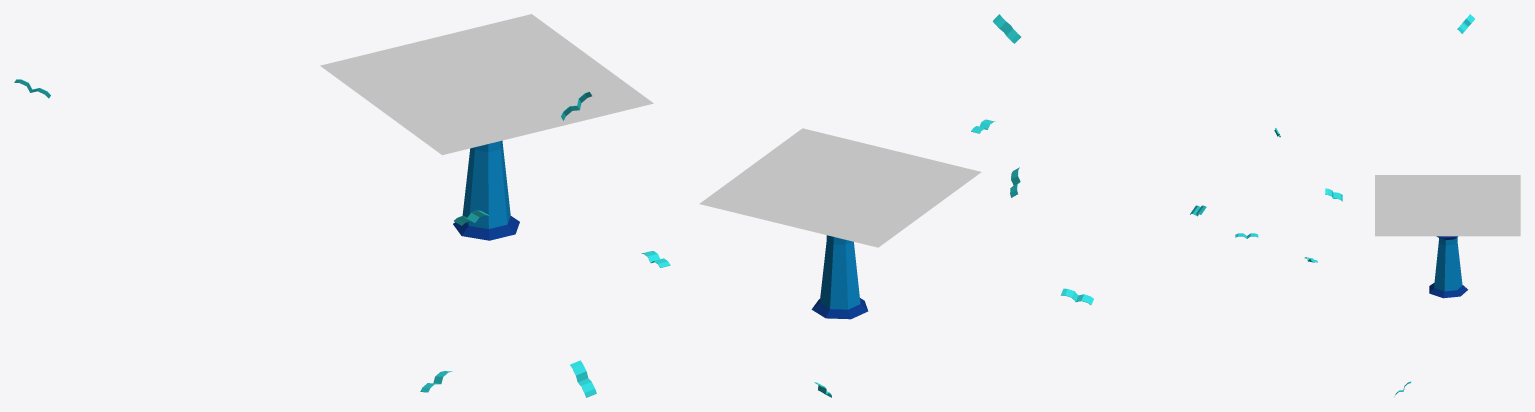
File: lighthouse.fbx
3 renders of one model, left to right at view 1: azimuth 30°, elevation 25°; view 2: azimuth 150°, elevation 25°; view 3: azimuth 270°, elevation 25°, orthographic. The views are drawn at different scales.
Visible parts, largest first — view 1: Plane, Cylinder; view 2: Plane, Cylinder; view 3: Plane, Cylinder.
Part boxes in pixels (<box>): Plane: <box>320,14,653,155</box>; Cylinder: <box>453,140,519,240</box>; Plane: <box>699,128,981,247</box>; Cylinder: <box>811,235,868,319</box>; Plane: <box>1375,175,1520,236</box>; Cylinder: <box>1429,236,1467,298</box>.
Size of the model in its own units: 3911 by 2706 by 2911.
